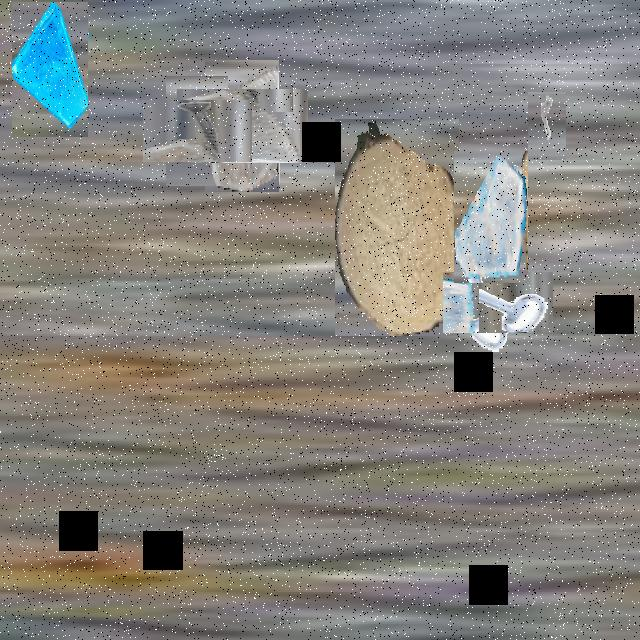glass: (190, 75, 294, 177), (12, 2, 88, 137), (454, 151, 528, 283)
metal: (455, 259, 541, 345), (154, 89, 240, 174), (528, 92, 566, 160)
wood: (335, 119, 459, 336)
